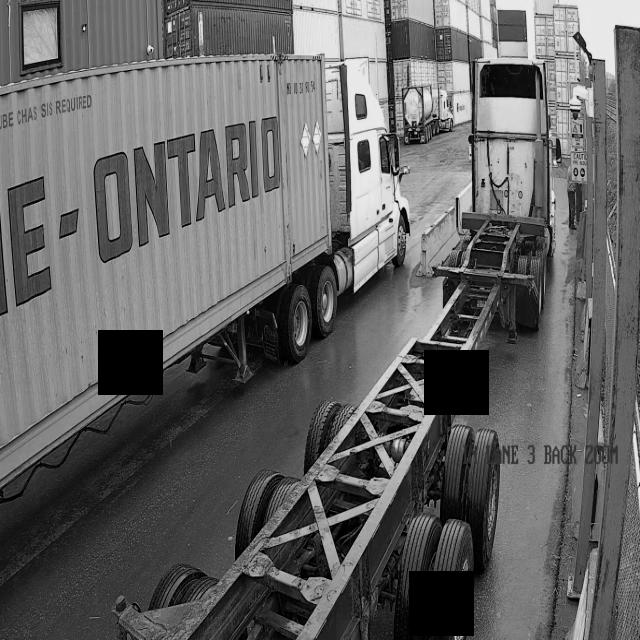container_company_logo: (0, 93, 280, 326)
truck_with_container: (0, 56, 411, 500)
truck_without_container: (114, 58, 560, 640)
